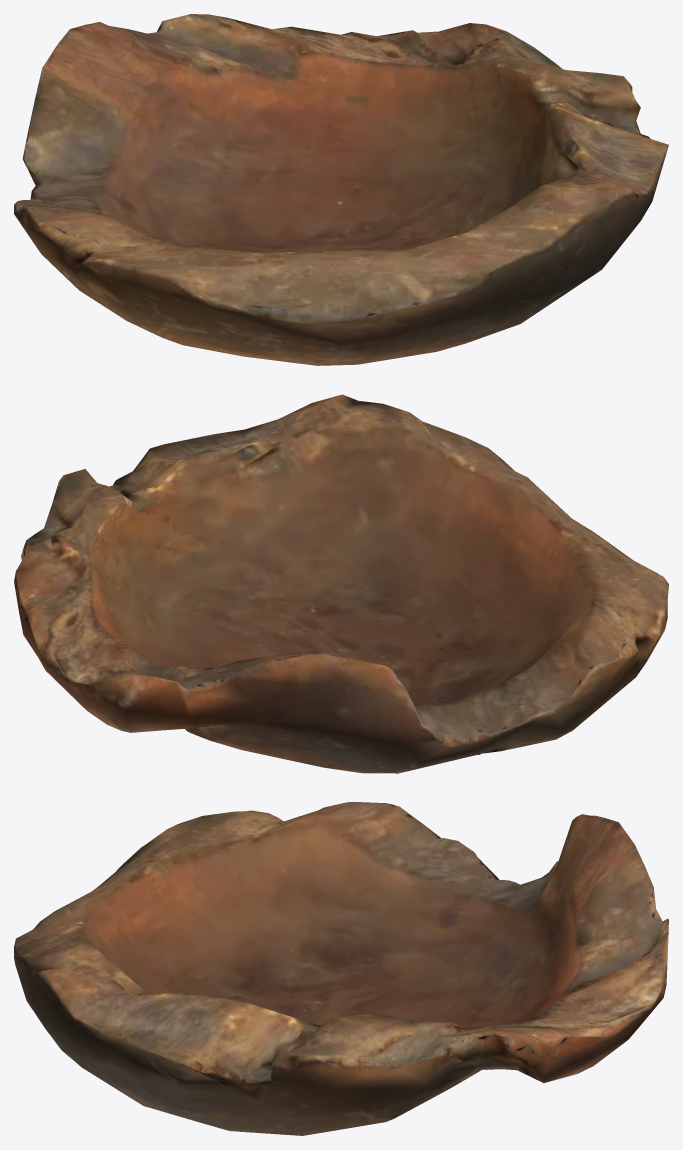
File: wooden_bowl_01.glb
3 renders of one model, top to bottom at view 1: azimuth 30°, elevation 25°; view 2: azimuth 150°, elevation 25°; view 3: azimuth 270°, elevation 25°, orthographic. The views are drawn at different scales.
Parts seen in each view (by area): view 1: wooden_bowl_01; view 2: wooden_bowl_01; view 3: wooden_bowl_01.
Boxes of the visible parts, bbox=[...] form: wooden_bowl_01: bbox=[14, 14, 668, 365]; wooden_bowl_01: bbox=[14, 394, 668, 773]; wooden_bowl_01: bbox=[14, 802, 668, 1135].
Size of the model in its own units: 0.3126 by 0.0932 by 0.3081.
Materials: 1 (1 with a texture image).
